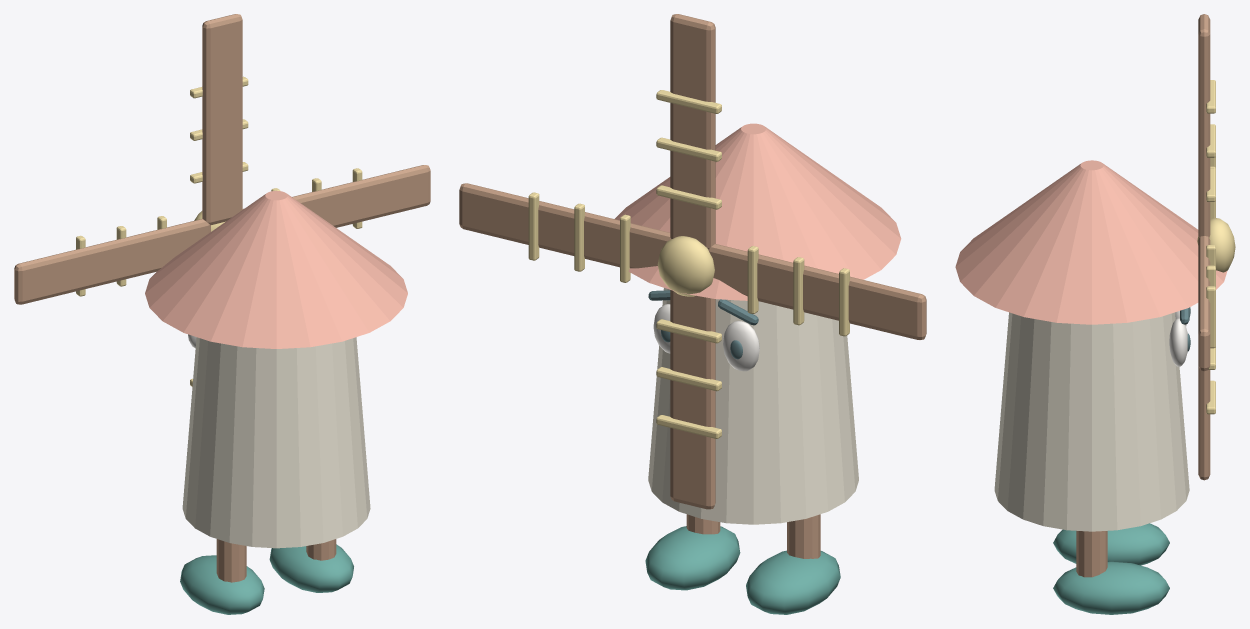
Rendered from hi3d-running-windmill-proxy.glb.
3 views of the same model, side by side, from view 1: azimuth 30°, elevation 25°; view 2: azimuth 150°, elevation 25°; view 3: azimuth 270°, elevation 25° (orthographic). The views are drawn at different scales.
Parts seen in each view (by area): view 1: MILL_BODY, MILL_ROOF, BLADE_0, BLADE_3, BLADE_1, SHOE_L, SHOE_R, SHIN_L; view 2: MILL_BODY, MILL_ROOF, BLADE_0, BLADE_3, BLADE_2, BLADE_1, SHOE_L, SHOE_R, BLADE_HUB, SHIN_L, MILL_EYE, BLADE_CROSS.009 (+11 smaller); view 3: MILL_BODY, MILL_ROOF, SHOE_R, BLADE_0, SHOE_L, BLADE_1, SHIN_R, BLADE_2, BLADE_HUB, MILL_EYE.001, BLADE_CROSS.005.
Boxes of the visible parts, bbox=[...] form: MILL_BODY: bbox=[182, 337, 370, 548]; MILL_ROOF: bbox=[145, 190, 407, 348]; BLADE_0: bbox=[202, 14, 242, 224]; BLADE_3: bbox=[14, 219, 210, 304]; BLADE_1: bbox=[242, 165, 430, 227]; SHOE_L: bbox=[180, 555, 264, 614]; SHOE_R: bbox=[269, 544, 353, 592]; SHIN_L: bbox=[216, 539, 246, 582]; MILL_BODY: bbox=[648, 288, 858, 524]; MILL_ROOF: bbox=[615, 123, 901, 300]; BLADE_0: bbox=[670, 14, 715, 248]; BLADE_3: bbox=[708, 244, 926, 339]; BLADE_2: bbox=[670, 290, 715, 509]; BLADE_1: bbox=[459, 183, 671, 268]; SHOE_L: bbox=[746, 550, 840, 614]; SHOE_R: bbox=[645, 526, 740, 590]; BLADE_HUB: bbox=[657, 236, 714, 296]; SHIN_L: bbox=[787, 514, 820, 558]; MILL_EYE: bbox=[723, 321, 759, 371]; BLADE_CROSS.009: bbox=[747, 246, 758, 313]; MILL_BODY: bbox=[994, 312, 1189, 531]; MILL_ROOF: bbox=[955, 160, 1227, 324]; SHOE_R: bbox=[1053, 561, 1169, 614]; BLADE_0: bbox=[1198, 14, 1210, 237]; SHOE_L: bbox=[1053, 523, 1169, 565]; BLADE_1: bbox=[1198, 236, 1210, 371]; SHIN_R: bbox=[1076, 531, 1107, 577]; BLADE_2: bbox=[1198, 366, 1210, 480]; BLADE_HUB: bbox=[1197, 218, 1235, 272]; MILL_EYE.001: bbox=[1169, 318, 1187, 366]; BLADE_CROSS.005: bbox=[1206, 286, 1215, 348].
Size of the model in its own units: 5.1 by 6.39 by 2.87.
